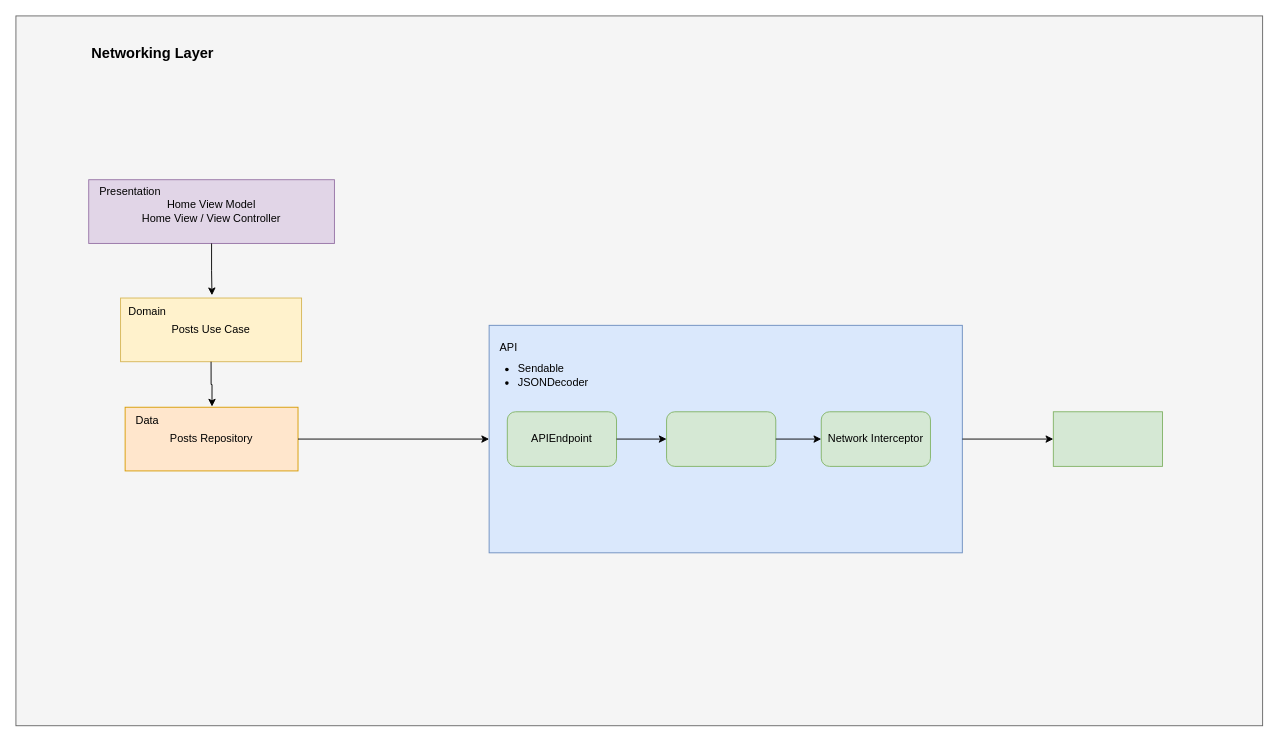
This 1279x742 diagram has some shape labels left out. Each missing label, with the centre of its shape:
"APIClient" belongs at point (721, 438).
"URLSession" belongs at point (1107, 438).
